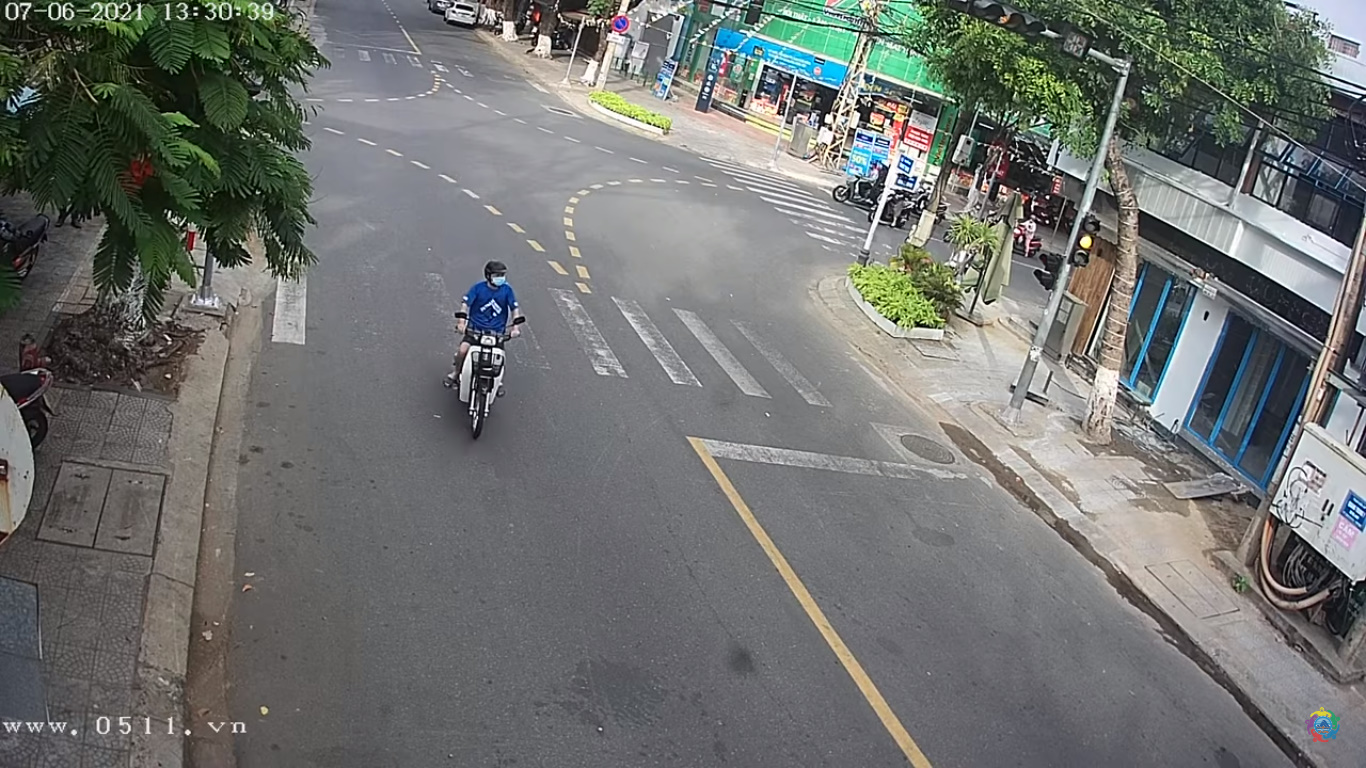motorbike: (449, 264, 523, 434)
